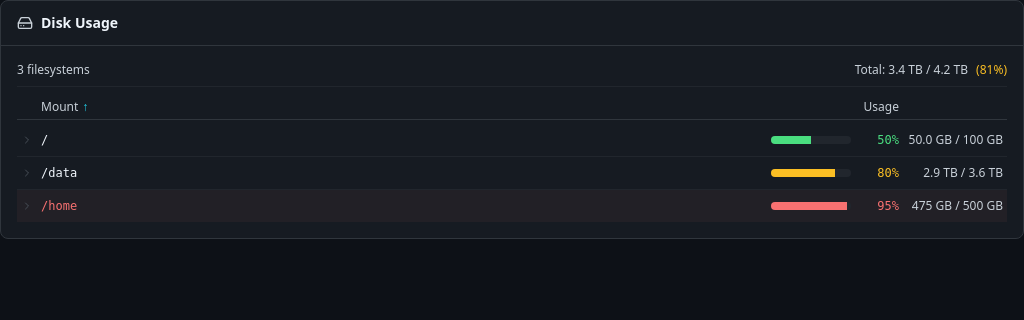
Scenario: DiskWidget › Expandable details (US0168 AC5) › shows device, filesystem type, and available space in details
Click the button with test id "expand-/data".
click(59, 173)  # box [17,157,1007,189]
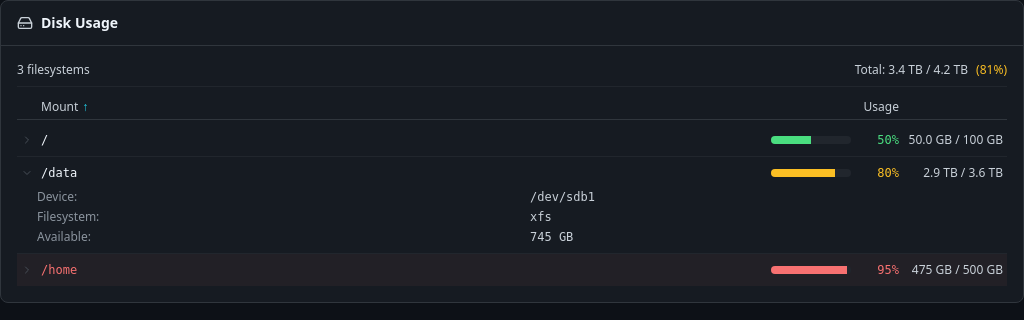
Expected: the element with test id "details-/data" shows "Device:", [37,188,77,205]
Expected: the element with test id "details-/data" shows "/dev/sdb1", [530,190,595,204]
Expected: the element with test id "details-/data" shows "Filesystem:", [37,208,99,225]
